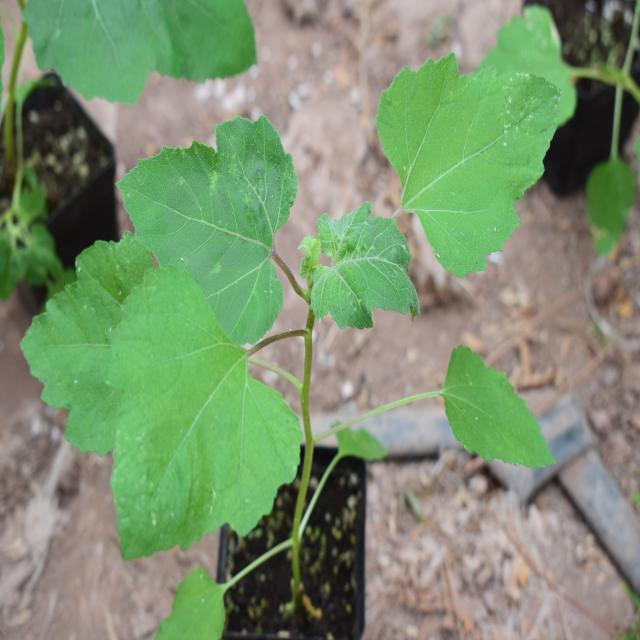cocklebur: (60, 82, 573, 530)
